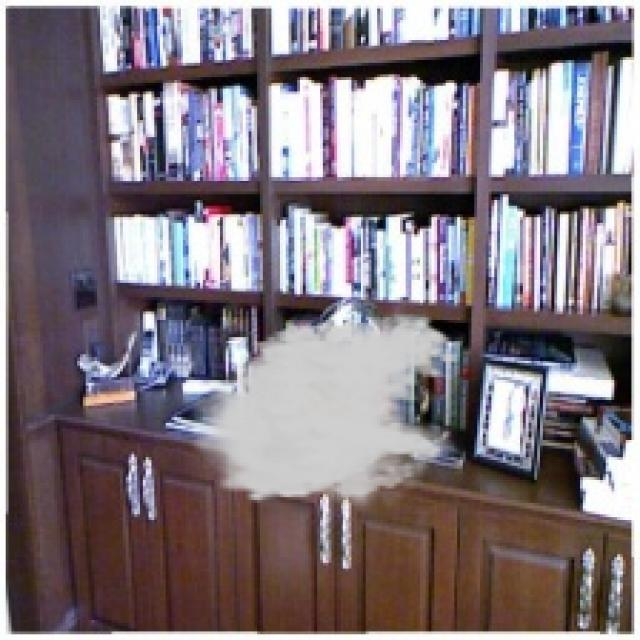Smoke: (180, 312, 460, 514)
